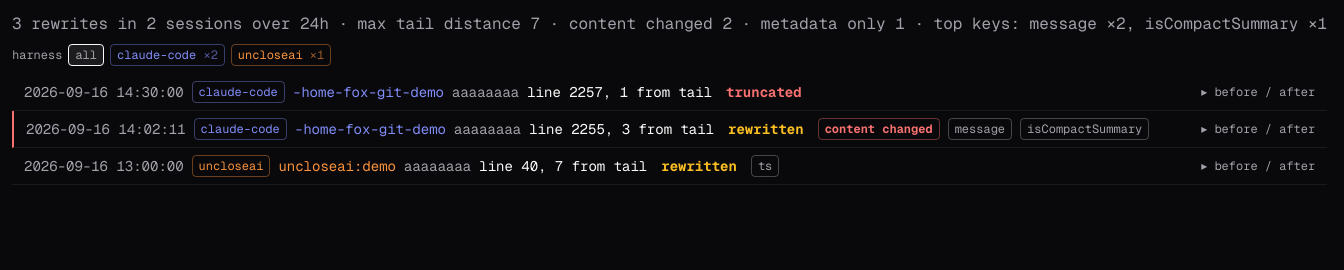
Scenario: RewritesTab › says the line no longer exists on the AFTER side of a truncation
Step 1. Click the 4th button → click(670, 92), box [12,74,1327,110]
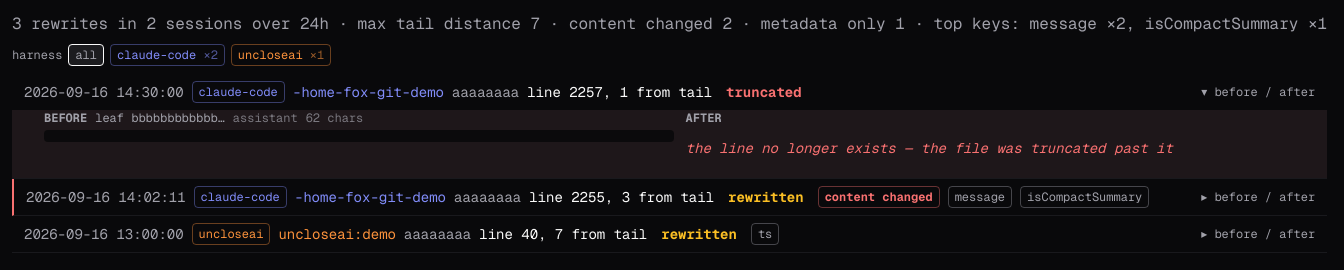
Check: the element with test id "before-after" shows "the line no longer exists", box [686,139,1173,157]
